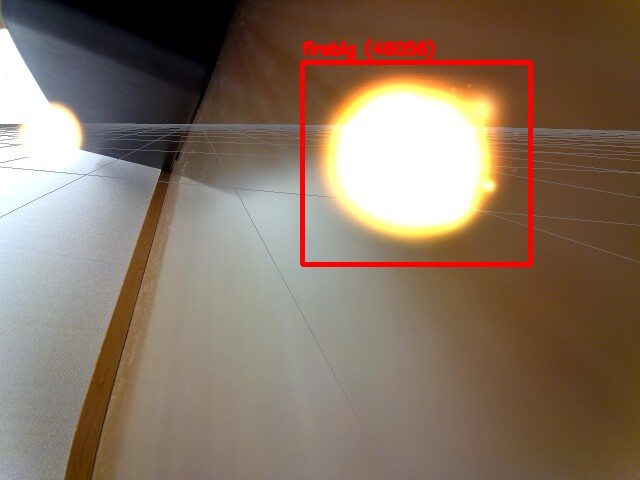firebig: (302, 62, 530, 264)
